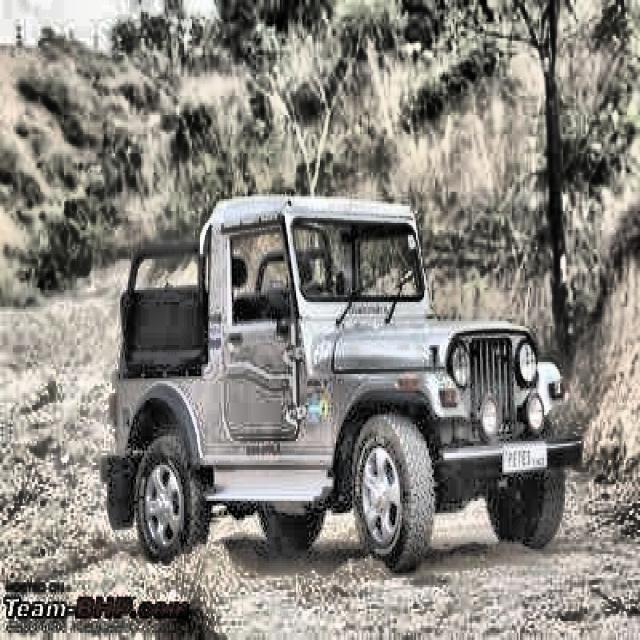license_plate: (502, 440, 545, 476)
